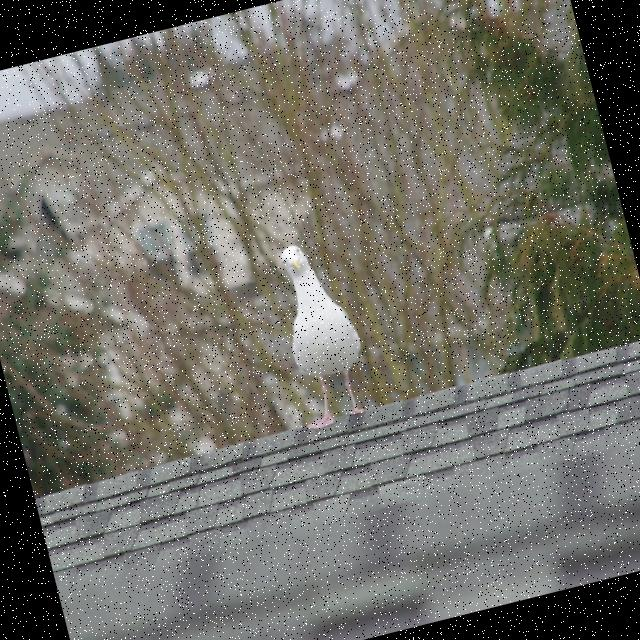bird: (263, 233, 380, 432)
